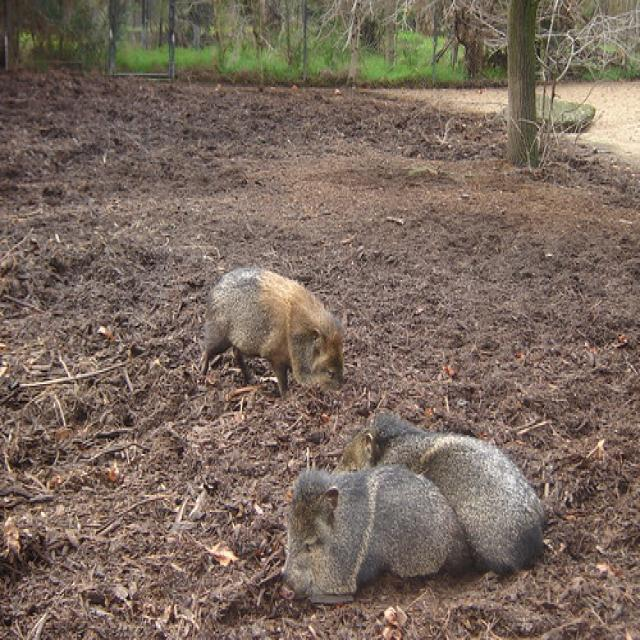boar: (358, 392, 556, 581), (250, 450, 483, 610), (189, 233, 355, 412)
